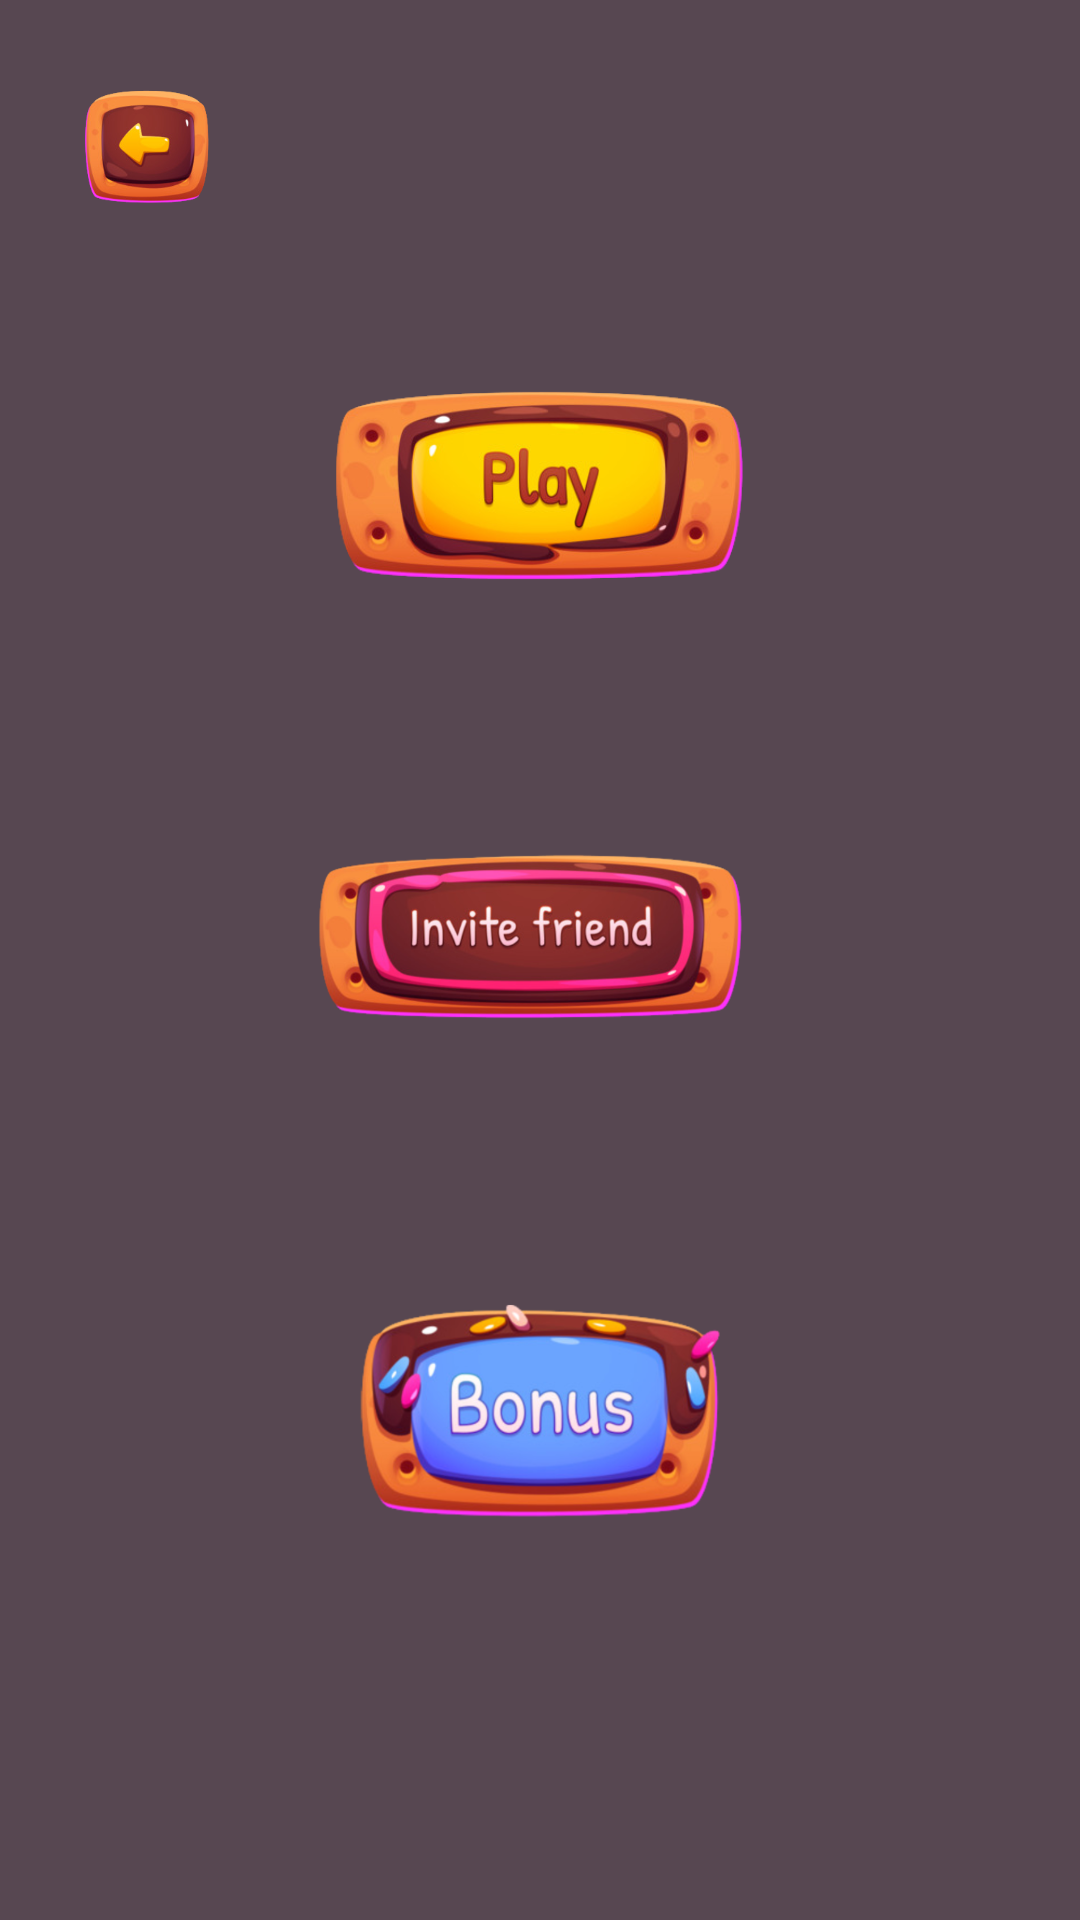

Icons on this 1080 x 1920 Android screen, each with its box as box(x1, y1, x2, y2):
back: box(85, 91, 209, 203)
